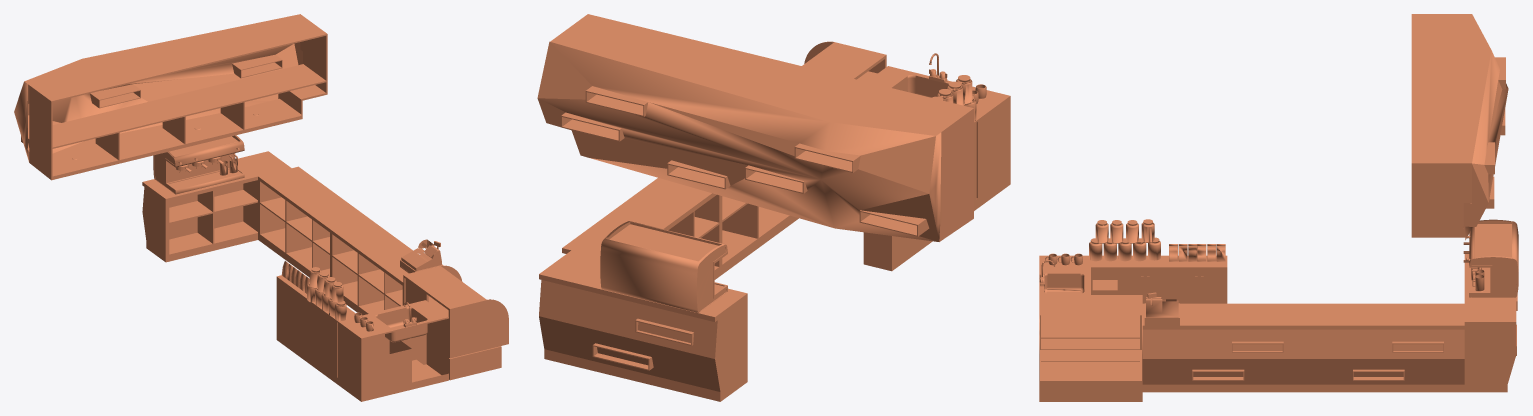
File: cafe.fbx
The picture shows the model from 3 angles, left to right: view 1: azimuth 30°, elevation 25°; view 2: azimuth 150°, elevation 25°; view 3: azimuth 270°, elevation 25°; orthographic projection. The views are drawn at different scales.
Visible parts, largest first — view 1: Cafe; view 2: Cafe; view 3: Cafe.
Boxes of the visible parts, x1,y1,x2,y2 form: Cafe: (14,14,508,401); Cafe: (537,14,1010,401); Cafe: (1039,14,1518,401).
Size of the model in its own units: 434 by 301 by 556.
